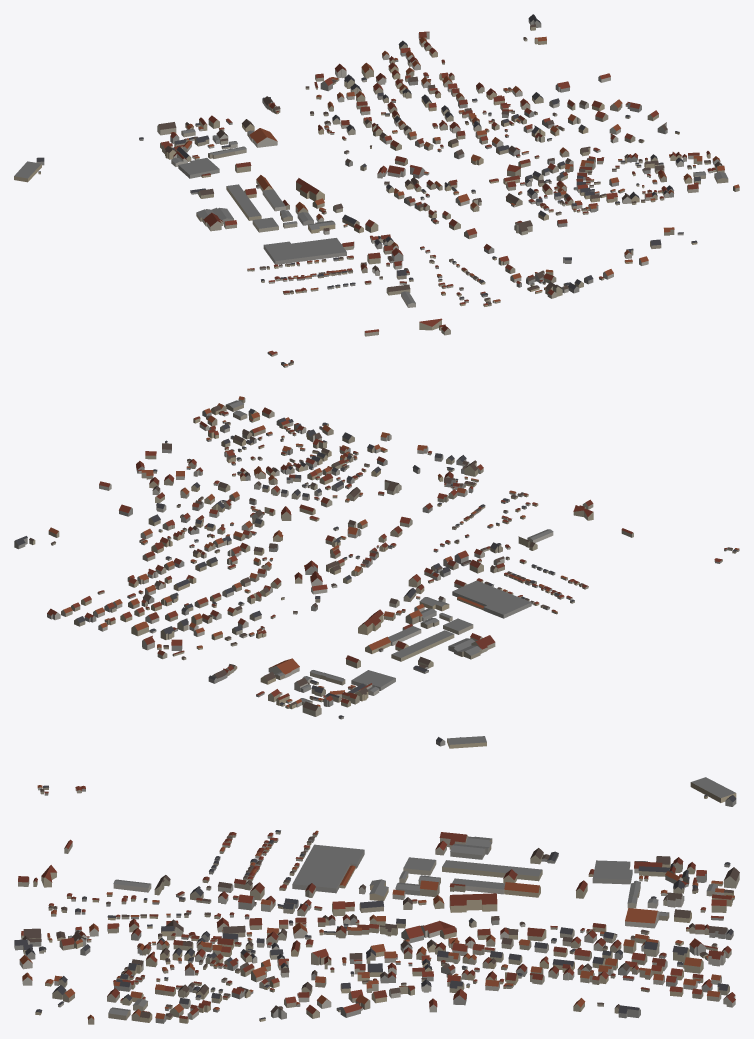
3 views of the same model, one above another, from view 1: azimuth 30°, elevation 25°; view 2: azimuth 150°, elevation 25°; view 3: azimuth 270°, elevation 25° (orthographic). The views are drawn at different scales.
Parts seen in each view (by area): view 1: buildings; view 2: buildings; view 3: buildings.
Boxes of the visible parts, x1,y1,x2,y2 form: buildings: (14, 14, 739, 367); buildings: (14, 396, 739, 748); buildings: (14, 777, 739, 1024).
Bounding box in the file's own units: 824 × 104 × 816.
